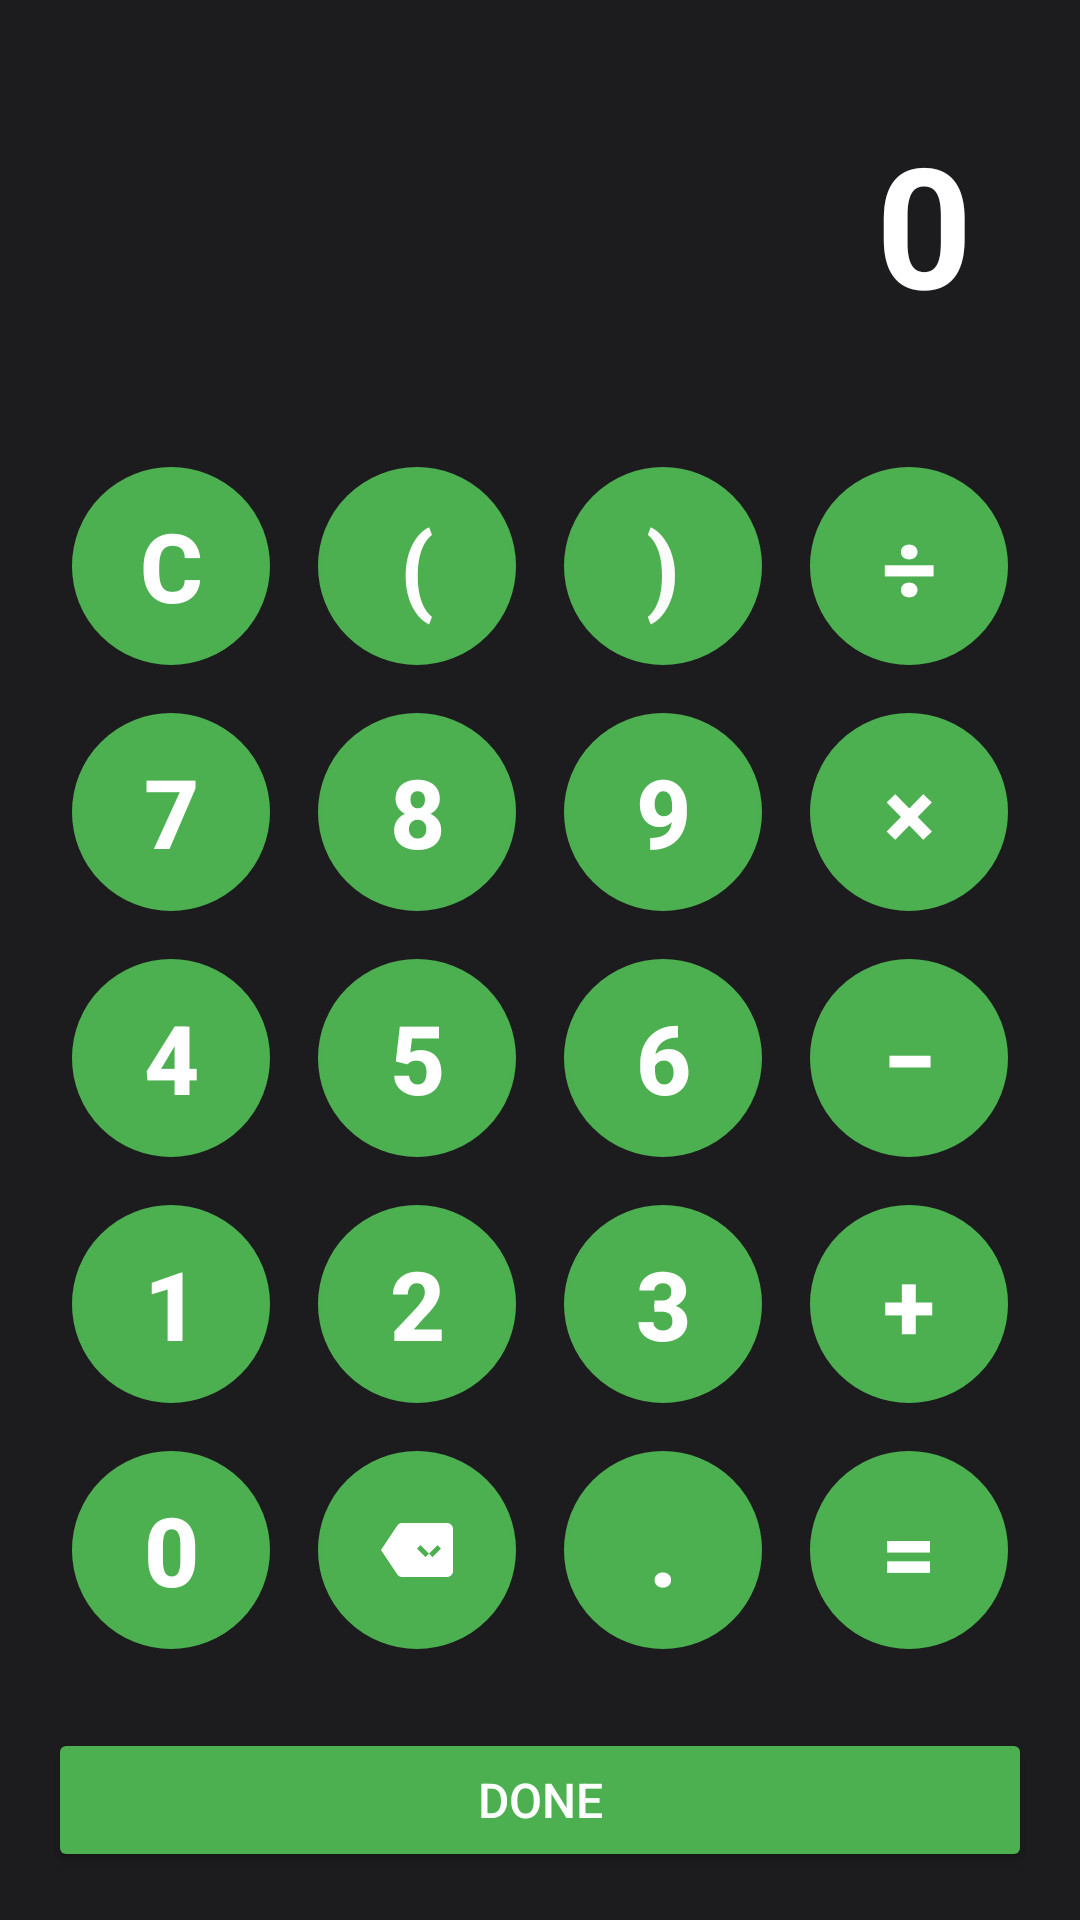

Where icons sit on this 1080 × 1920 app screen, as (x1, y1, x2, y2):
Backspace: (318, 1451, 516, 1649)
